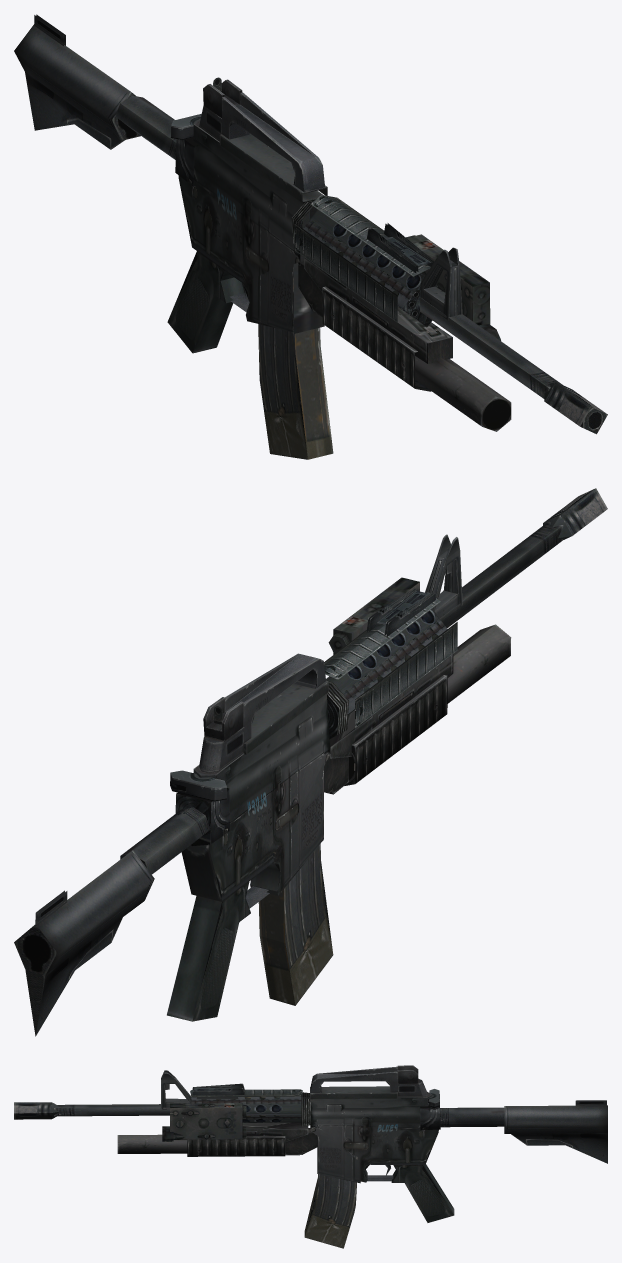
The picture shows the model from 3 angles, top to bottom: view 1: azimuth 30°, elevation 25°; view 2: azimuth 150°, elevation 25°; view 3: azimuth 270°, elevation 25°; orthographic projection. The views are drawn at different scales.
Parts seen in each view (by area): view 1: p3uj8; view 2: p3uj8; view 3: p3uj8.
Part boxes in pixels (x1,y1,x2,y2): p3uj8: (14, 14, 607, 459); p3uj8: (14, 488, 607, 1036); p3uj8: (14, 1065, 607, 1248).
Size of the model in its own units: 7.73 by 29.9 by 89.97.
